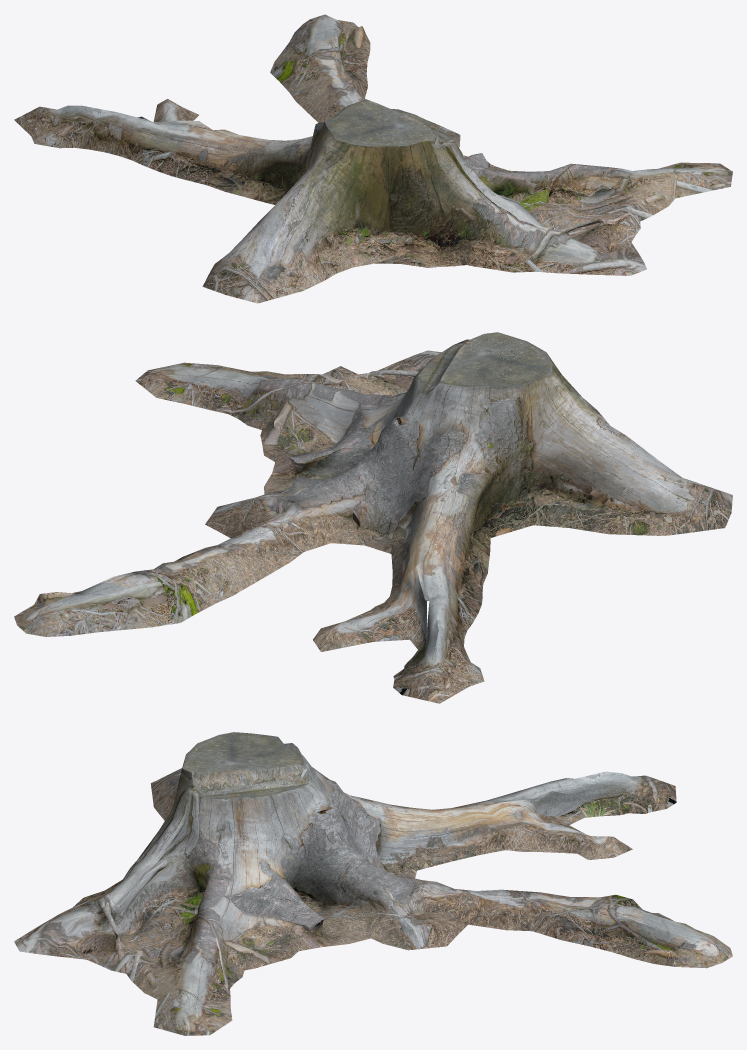
File: sm_TreeStump_04_01.fbx
The picture shows the model from 3 angles, top to bottom: view 1: azimuth 30°, elevation 25°; view 2: azimuth 150°, elevation 25°; view 3: azimuth 270°, elevation 25°; orthographic projection. The views are drawn at different scales.
Parts seen in each view (by area): view 1: sm_TreeStump_04_01_LOD0; view 2: sm_TreeStump_04_01_LOD0; view 3: sm_TreeStump_04_01_LOD0.
Boxes of the visible parts, left/top/right/bottom form: sm_TreeStump_04_01_LOD0: left=14, top=14, right=732, bottom=303; sm_TreeStump_04_01_LOD0: left=14, top=332, right=732, bottom=703; sm_TreeStump_04_01_LOD0: left=14, top=732, right=732, bottom=1035.
Bounding box in the file's own units: 195 × 223 × 42.34.
